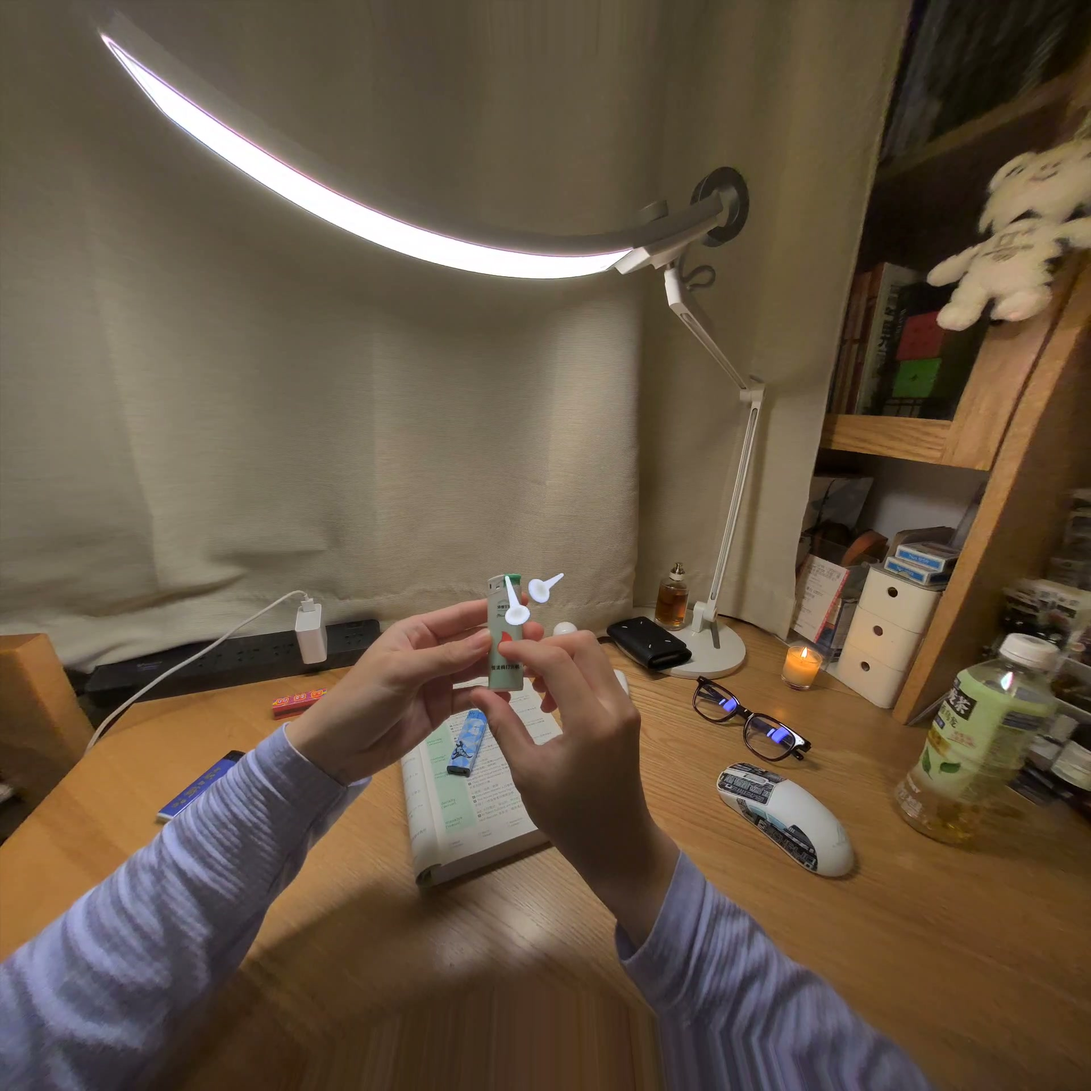lighter: (488, 573, 529, 692)
